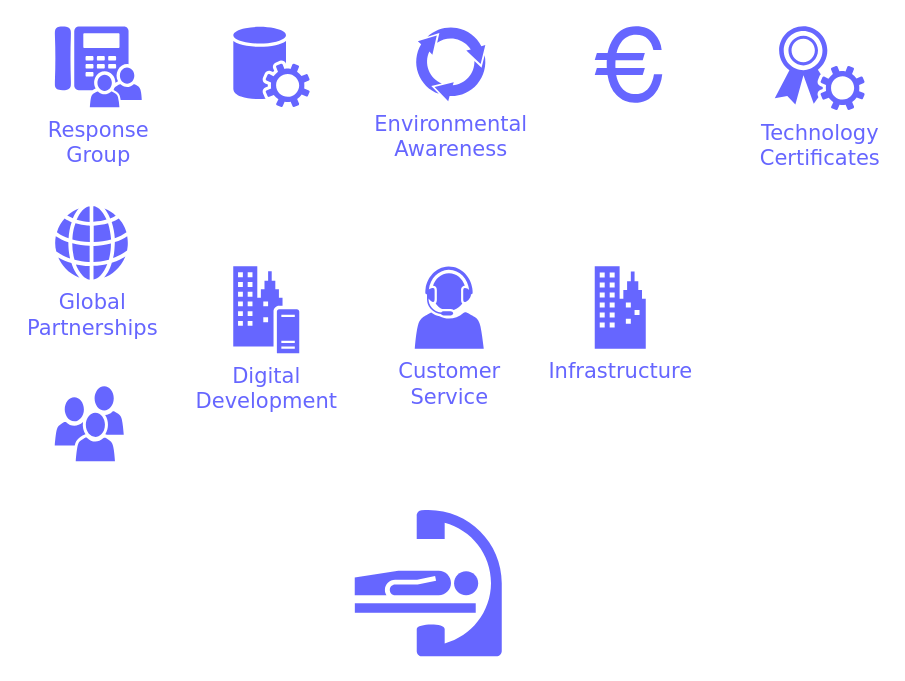
Some shapes in this 905 by 681 pixel diagram are drawn without their labels. The shapes that lost their labels are listed below. From the top down, each one's centre as x and y in pixels, then its label:
the point at 270,66: Central Management Service
the point at 628,64: Finance
the point at 88,423: Community
